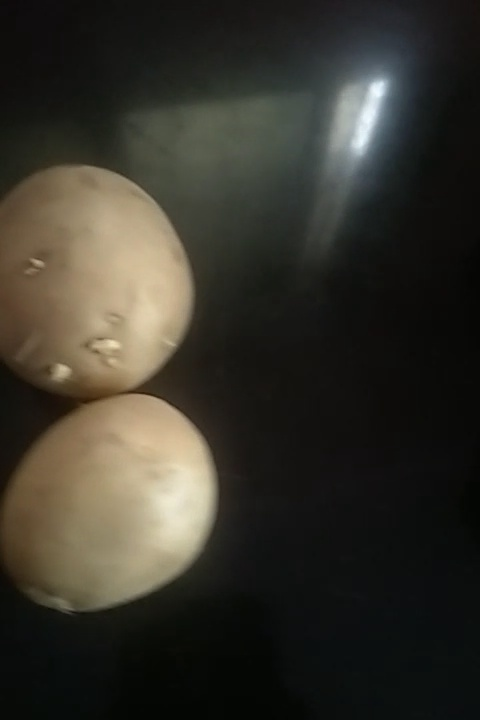potato: (2, 405, 223, 617), (1, 152, 198, 384)
